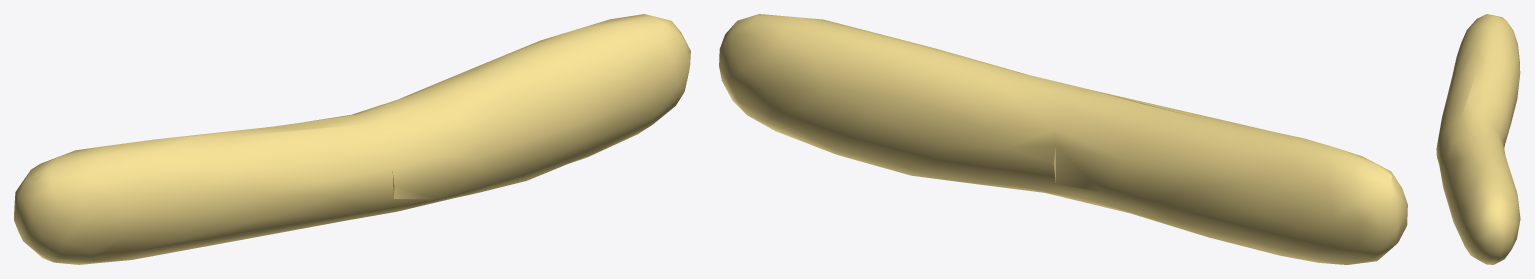
File: fma62056_mm2883.glb
3 views of the same model, side by side, from view 1: azimuth 30°, elevation 25°; view 2: azimuth 150°, elevation 25°; view 3: azimuth 270°, elevation 25° (orthographic). The views are drawn at different scales.
Visible parts, largest first — view 1: FMA62056_MM2883; view 2: FMA62056_MM2883; view 3: FMA62056_MM2883.
Part boxes in pixels (box(x1,y1,x2,y2)): FMA62056_MM2883: box(14, 14, 690, 264); FMA62056_MM2883: box(719, 14, 1407, 264); FMA62056_MM2883: box(1436, 14, 1520, 264).
Size of the model in its own units: 0.0116 by 0.00208 by 0.00198.
